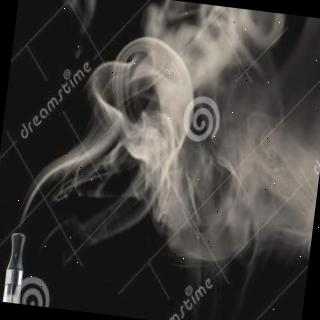smoke: (97, 0, 320, 258)
